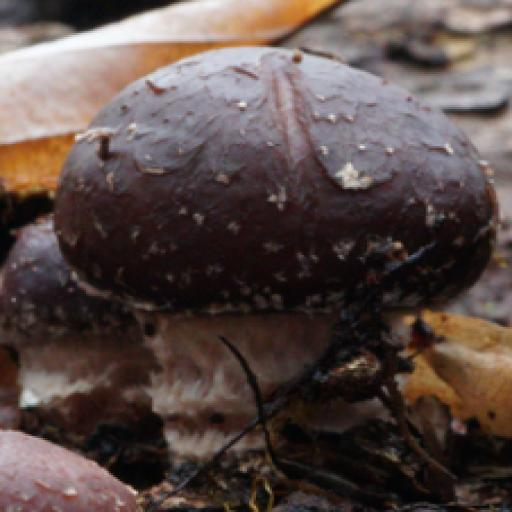Shiitake Mushroom: (30, 2, 512, 492)
